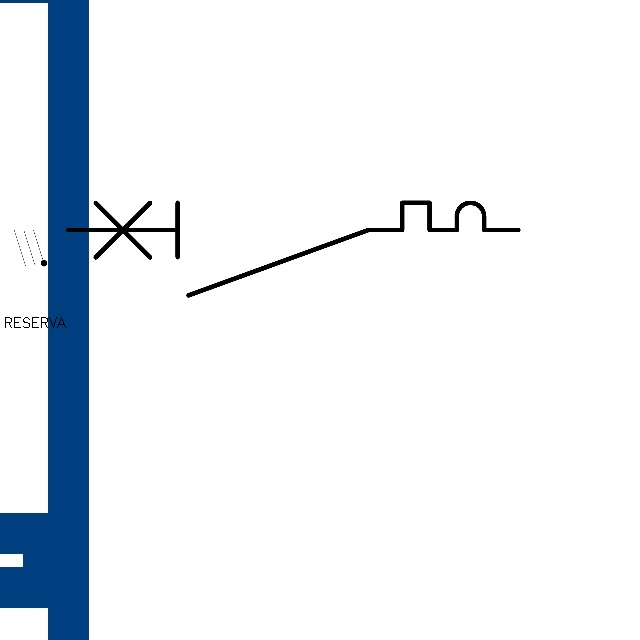interruptor_termomagnetico: (56, 191, 529, 307)
